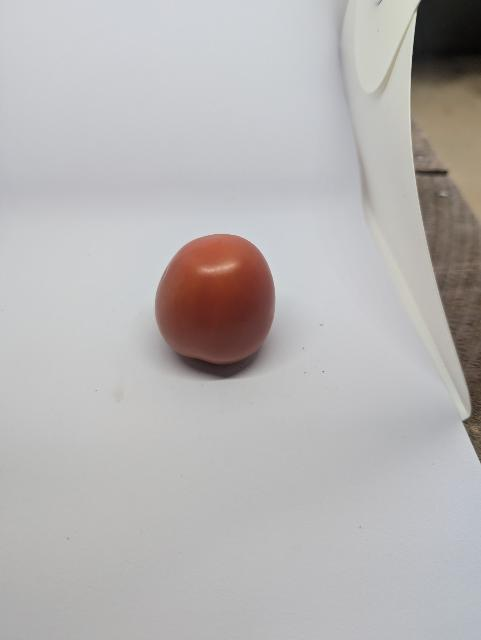red: (149, 226, 295, 381)
